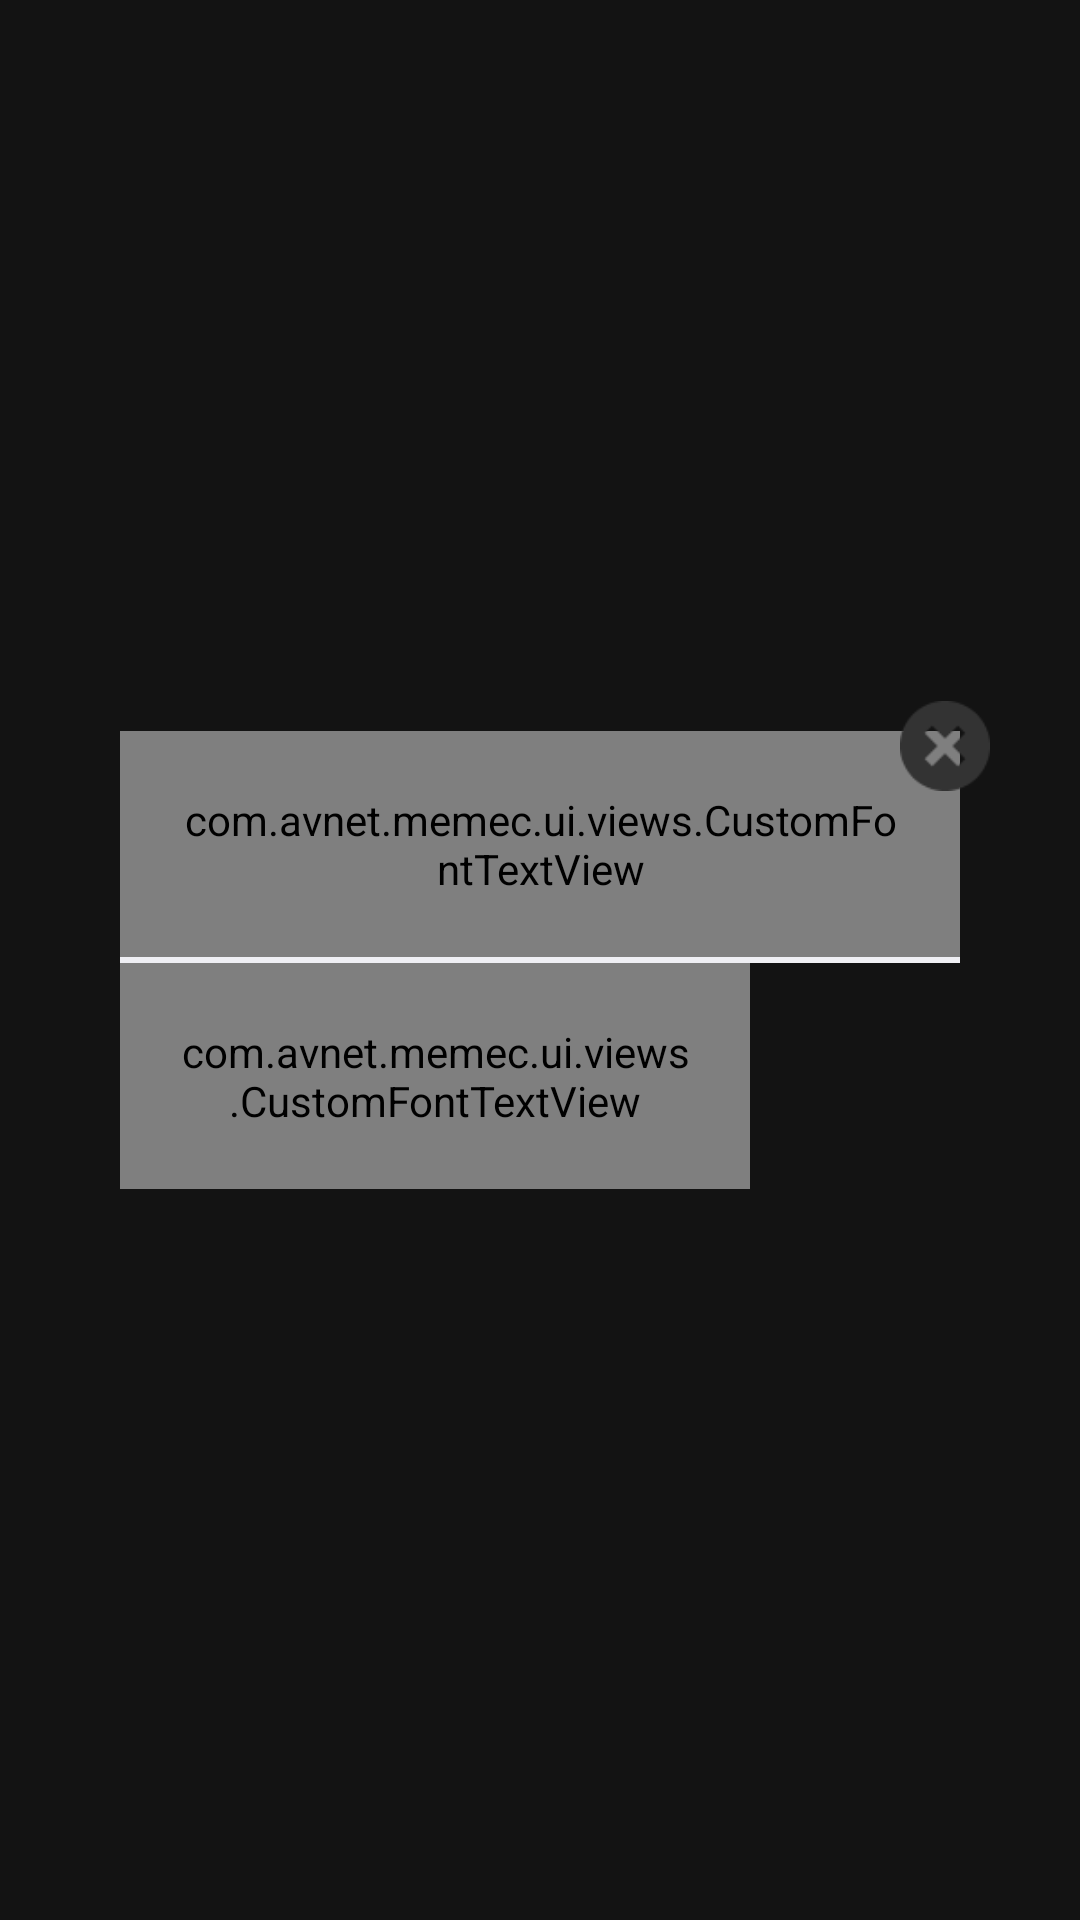

Icon bounding boxes for this 1080x1920 phone screenshot, format (x1, y1, x2, y2):
cancel: (900, 701, 990, 791)
